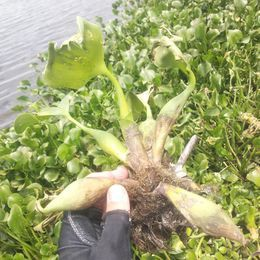water_hyacinth: (0, 18, 188, 169)
